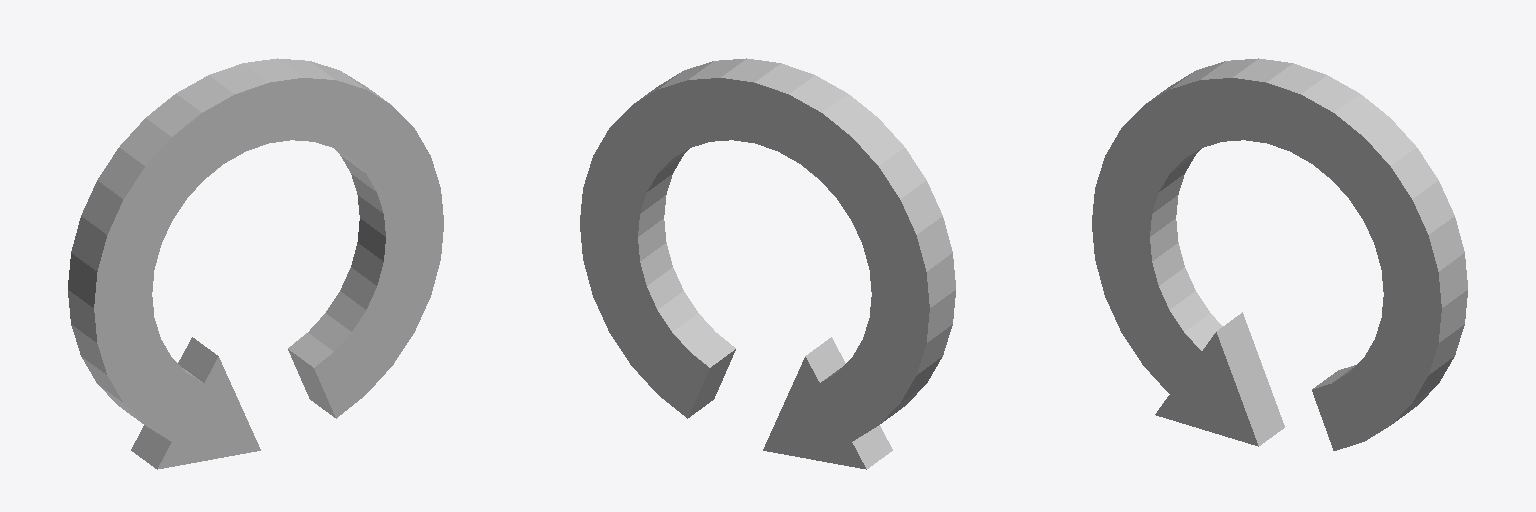
Rendered from Arrow_58.obj.
3 views of the same model, side by side, from view 1: azimuth 30°, elevation 25°; view 2: azimuth 150°, elevation 25°; view 3: azimuth 330°, elevation 25° (orthographic).
Parts seen in each view (by area): view 1: Arrow_58; view 2: Arrow_58; view 3: Arrow_58.
Boxes of the visible parts, box(x1,y1,x2,y2) form: Arrow_58: box(68, 58, 443, 469); Arrow_58: box(580, 58, 955, 469); Arrow_58: box(1092, 58, 1467, 450).
Size of the model in its own units: 3 by 2.99 by 0.3909.